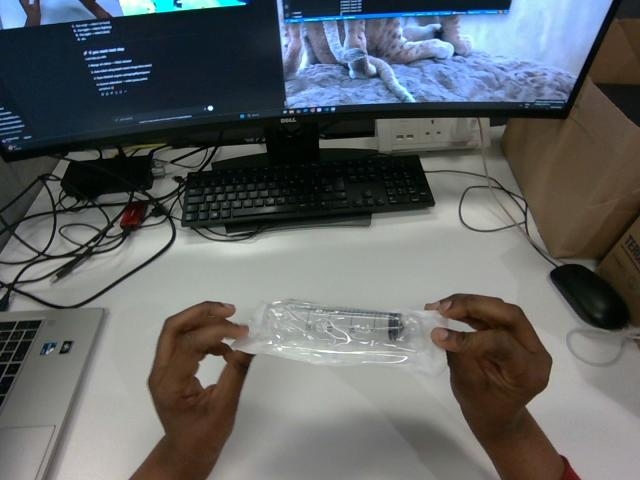syringe: (232, 300, 446, 375)
